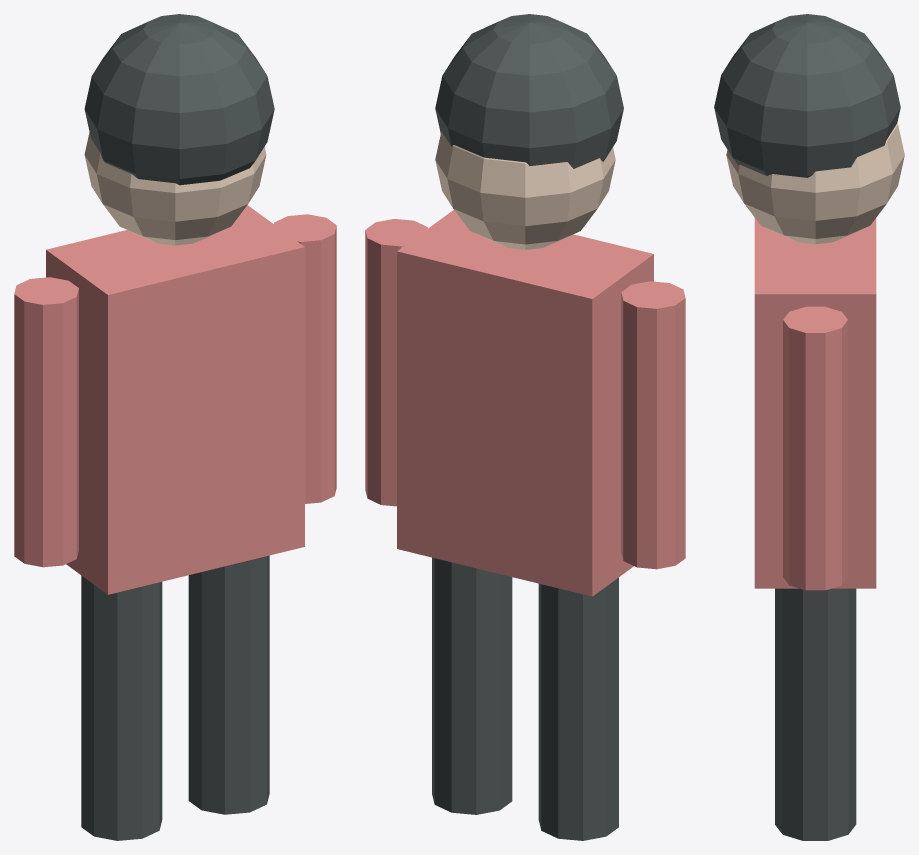
File: customer_1.glb
3 renders of one model, left to right at view 1: azimuth 30°, elevation 25°; view 2: azimuth 150°, elevation 25°; view 3: azimuth 270°, elevation 25°, orthographic.
Parts seen in each view (by area): view 1: torso.002, hair.001, leg_-0.002, leg_0.002, arm_-0.002, arm_0.002, head.002; view 2: torso.002, hair.001, leg_-0.002, leg_0.002, arm_-0.002, head.002, arm_0.002; view 3: torso.002, hair.001, leg_0.002, arm_0.002, head.002.
Part boxes in pixels (bbox=[...]): torso.002: bbox=[46, 205, 304, 594]; hair.001: bbox=[84, 14, 274, 185]; leg_-0.002: bbox=[81, 575, 162, 840]; leg_0.002: bbox=[188, 555, 269, 814]; arm_-0.002: bbox=[14, 277, 78, 567]; arm_0.002: bbox=[274, 214, 336, 503]; head.002: bbox=[84, 132, 266, 245]; torso.002: bbox=[397, 210, 653, 596]; hair.001: bbox=[435, 14, 623, 168]; leg_-0.002: bbox=[538, 577, 618, 840]; leg_0.002: bbox=[432, 557, 512, 814]; arm_-0.002: bbox=[621, 281, 685, 569]; head.002: bbox=[435, 131, 615, 249]; arm_0.002: bbox=[365, 219, 427, 506]; torso.002: bbox=[754, 218, 876, 588]; hair.001: bbox=[714, 14, 900, 177]; leg_0.002: bbox=[775, 588, 856, 840]; arm_0.002: bbox=[783, 306, 847, 590]; head.002: bbox=[726, 123, 904, 244].
Bounding box in the file's own units: 0.8722 × 2.11 × 0.47.
